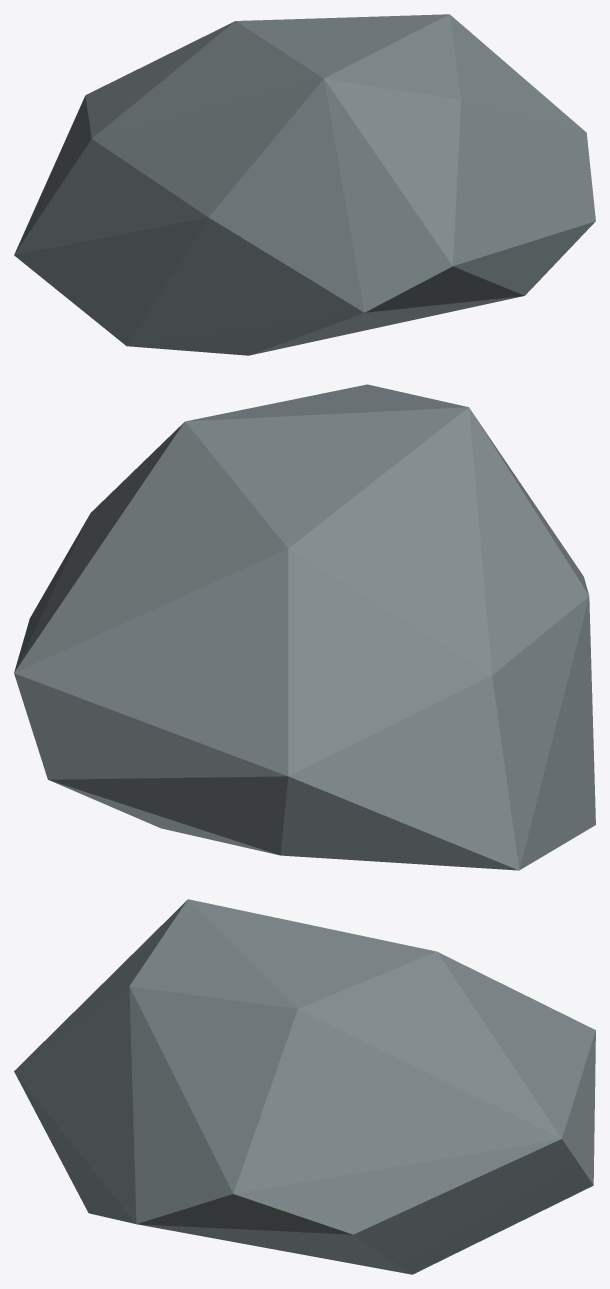
File: Rock_03.fbx
3 views of the same model, one above another, from view 1: azimuth 30°, elevation 25°; view 2: azimuth 150°, elevation 25°; view 3: azimuth 270°, elevation 25° (orthographic). The views are drawn at different scales.
Visible parts, largest first — view 1: Rock_03; view 2: Rock_03; view 3: Rock_03.
Part boxes in pixels (box(x1,y1,x2,y2)): Rock_03: box(14, 14, 595, 355); Rock_03: box(14, 384, 595, 870); Rock_03: box(14, 899, 595, 1274).
Bounding box in the file's own units: 51.81 × 28.65 × 53.55.
